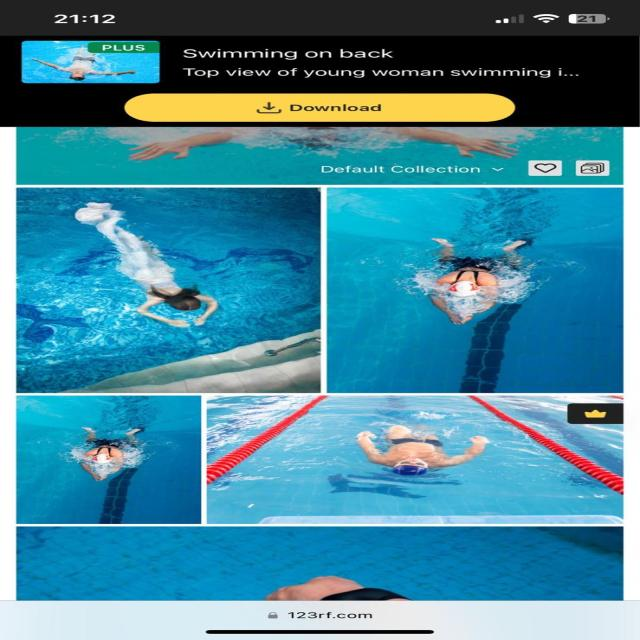Swimming: (66, 199, 235, 333), (416, 231, 530, 320), (352, 418, 490, 478), (74, 419, 150, 488)
